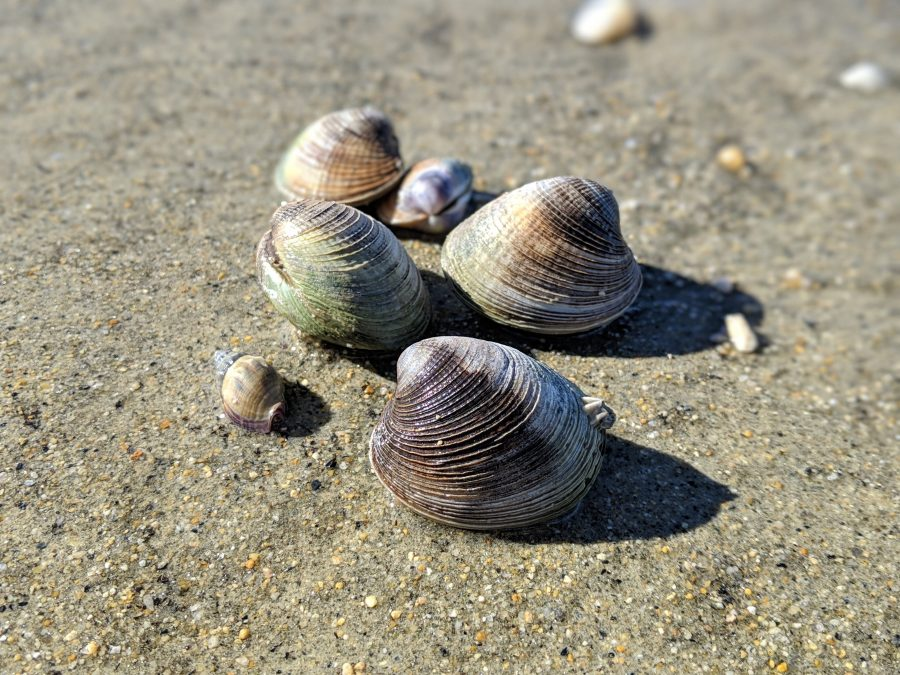cockle: (368, 331, 617, 532), (442, 174, 649, 338), (252, 191, 432, 349), (270, 105, 404, 201), (379, 155, 476, 237)
